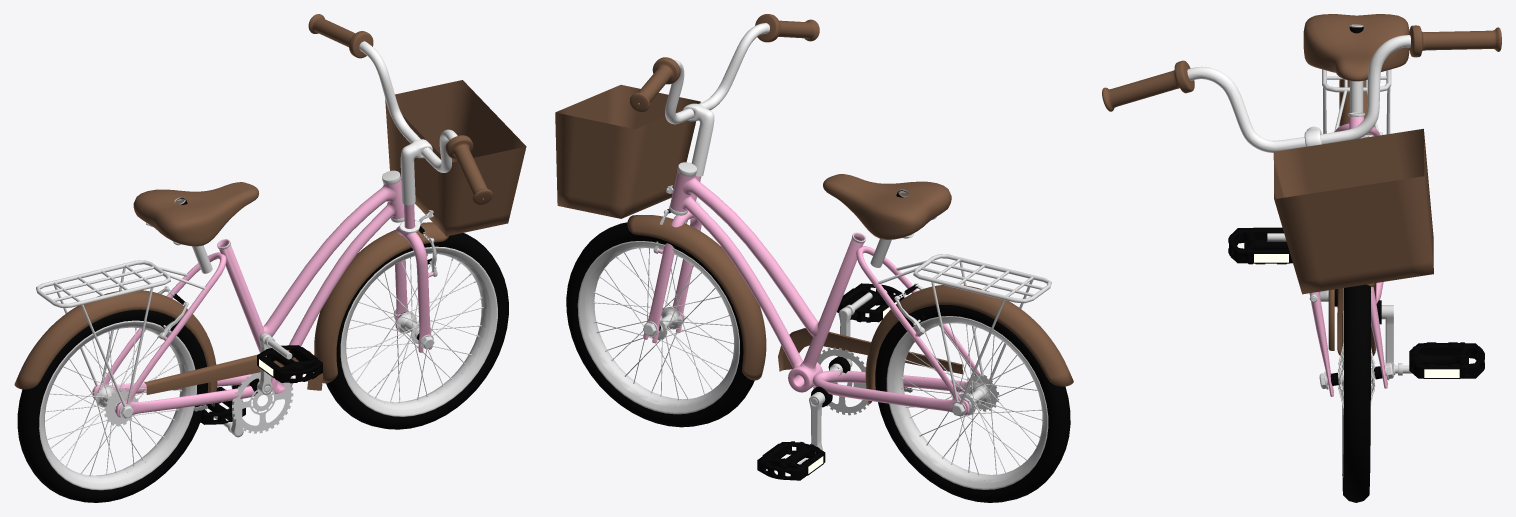
The model's file is pink-city-bicycle-runtime.glb.
The picture shows the model from 3 angles, left to right: view 1: azimuth 30°, elevation 25°; view 2: azimuth 150°, elevation 25°; view 3: azimuth 270°, elevation 25°; orthographic projection. The views are drawn at different scales.
Visible parts, largest first — view 1: back_wheelset, front_wheelset, basket, Frameset, handle, Saddle車座, back_mudguard, front_mudguard, 後座, 鍊條檔板, Fork, Pedals.R (+3 smaller); view 2: back_wheelset, front_wheelset, basket, Frameset, handle, Saddle車座, front_mudguard, back_mudguard, 後座, Fork, Pedals.L, 鍊條檔板 (+4 smaller); view 3: basket, handle, front_wheelset, Saddle車座, Pedals.L, Pedals.R, Fork, 後座, Crank.L, front_mudguard, back_mudguard, Frameset (+2 smaller).
Part boxes in pixels (x1,y1,x2,y2): back_wheelset: [17, 309, 207, 502]; front_wheelset: [326, 233, 508, 429]; basket: [385, 80, 526, 236]; Frameset: [92, 170, 404, 417]; handle: [308, 14, 492, 235]; Saddle車座: [133, 182, 258, 246]; back_mudguard: [14, 290, 217, 406]; front_mudguard: [314, 222, 448, 383]; 後座: [36, 260, 205, 406]; 鍊條檔板: [144, 350, 323, 394]; Fork: [395, 226, 432, 352]; Pedals.R: [257, 345, 322, 383]; back_wheelset: [875, 305, 1070, 502]; front_wheelset: [566, 222, 754, 427]; basket: [555, 85, 700, 218]; Frameset: [669, 162, 981, 415]; handle: [630, 14, 819, 201]; Saddle車座: [823, 174, 951, 239]; front_mudguard: [627, 215, 766, 380]; back_mudguard: [865, 285, 1073, 403]; 後座: [877, 254, 1051, 404]; Fork: [643, 211, 701, 343]; Pedals.L: [757, 441, 825, 480]; 鍊條檔板: [778, 328, 962, 374]; basket: [1273, 128, 1433, 294]; handle: [1102, 25, 1501, 152]; front_wheelset: [1338, 284, 1375, 502]; Saddle車座: [1303, 14, 1409, 81]; Pedals.L: [1409, 342, 1484, 378]; Pedals.R: [1228, 227, 1292, 264]; Fork: [1309, 287, 1387, 396]; 後座: [1322, 69, 1391, 134]; Crank.L: [1376, 300, 1411, 375]; front_mudguard: [1337, 283, 1376, 355]; back_mudguard: [1339, 79, 1370, 137]; Frameset: [1334, 112, 1383, 307].
Bounding box in the file's own units: 1.53 × 1.13 × 0.9164.
